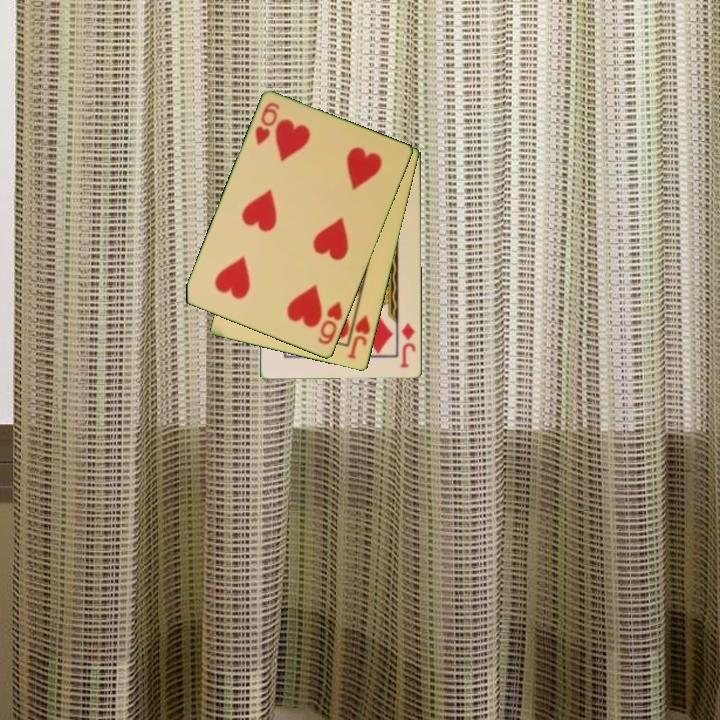6h: (314, 298, 346, 348), (251, 99, 283, 148)
Jd: (397, 320, 419, 371)
Jh: (344, 306, 374, 362)
